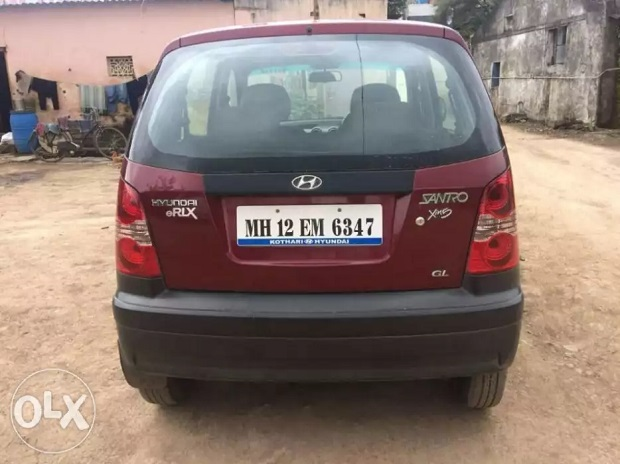licenseplate: (231, 201, 388, 246)
